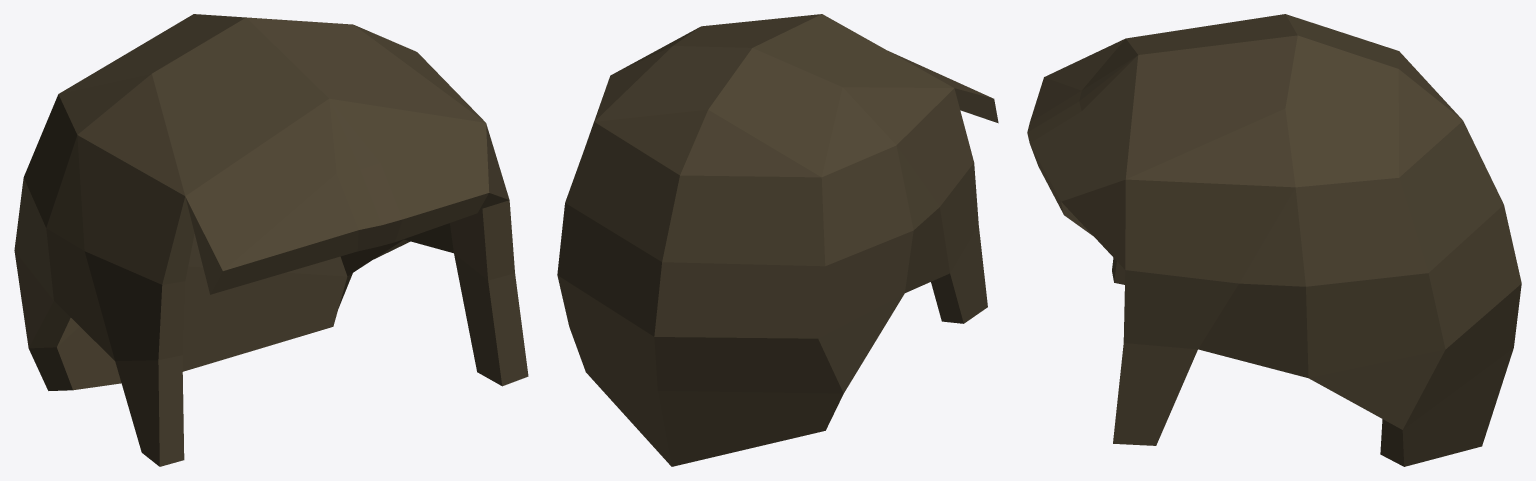
File: male-hairstyle-2.glb
3 views of the same model, side by side, from view 1: azimuth 30°, elevation 25°; view 2: azimuth 150°, elevation 25°; view 3: azimuth 270°, elevation 25° (orthographic). The views are drawn at different scales.
Parts seen in each view (by area): view 1: Male_Hairstyle_2; view 2: Male_Hairstyle_2; view 3: Male_Hairstyle_2.
Part boxes in pixels (<box>): Male_Hairstyle_2: <box>14,14,528,466</box>; Male_Hairstyle_2: <box>557,14,998,466</box>; Male_Hairstyle_2: <box>1027,14,1521,466</box>.
Bounding box in the file's own units: 0.5025 × 0.5245 × 0.572.
